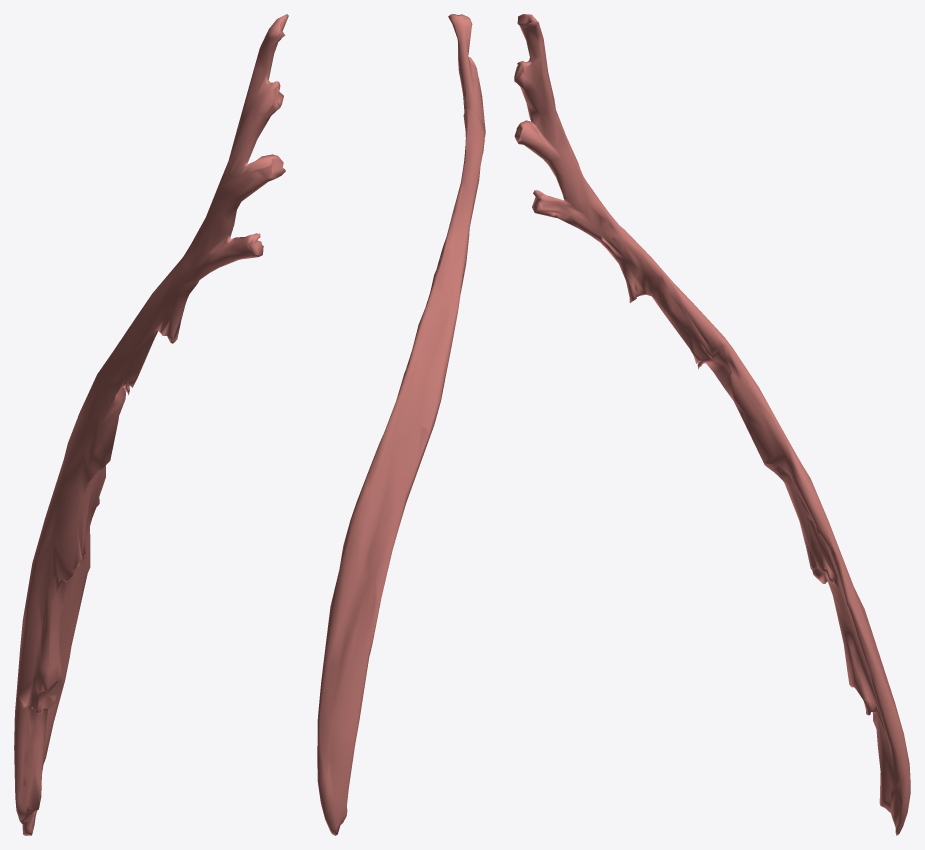
3 renders of one model, left to right at view 1: azimuth 30°, elevation 25°; view 2: azimuth 150°, elevation 25°; view 3: azimuth 270°, elevation 25°, orthographic. The views are drawn at different scales.
Parts seen in each view (by area): view 1: ZA_aa2dad20c9fea84a; view 2: ZA_aa2dad20c9fea84a; view 3: ZA_aa2dad20c9fea84a.
Boxes of the visible parts, left/top/right/bottom form: ZA_aa2dad20c9fea84a: left=14, top=14, right=288, bottom=835; ZA_aa2dad20c9fea84a: left=317, top=14, right=485, bottom=835; ZA_aa2dad20c9fea84a: left=514, top=14, right=910, bottom=835.
Bounding box in the file's own units: 0.0191 × 0.1894 × 0.0812.
